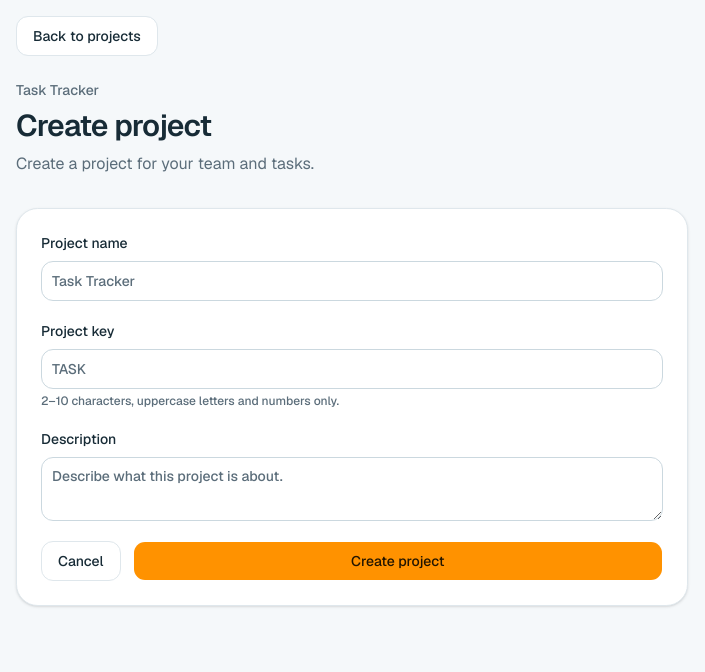
CreateProjectPage › validates required project fields
Click the button "Create project". click: (398, 561)
box: [133,541,663,581]
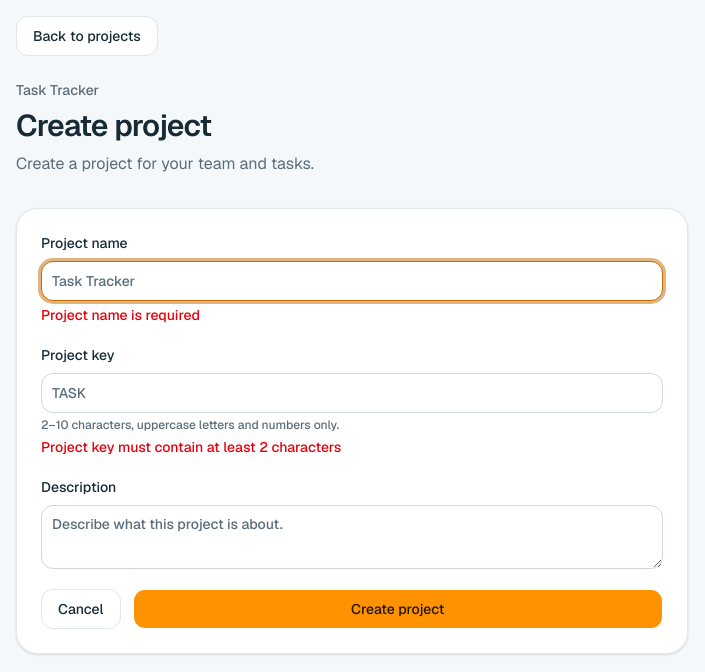
Now the text "Project name is required" is shown, box [41,306,200,324]
Now the text "Project key must contain at least 2 characters" is shown, box [41,438,341,456]
